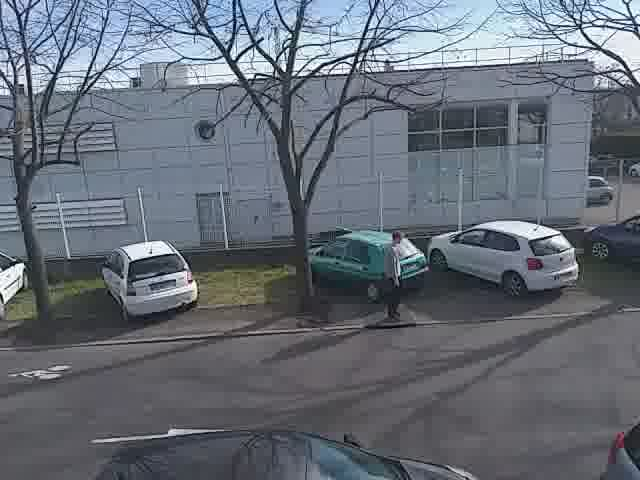persona: (371, 228, 420, 321)
